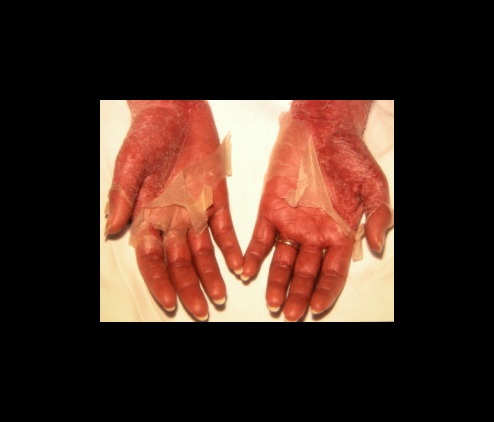SJS-TEN: (235, 84, 414, 336), (99, 100, 247, 322)
